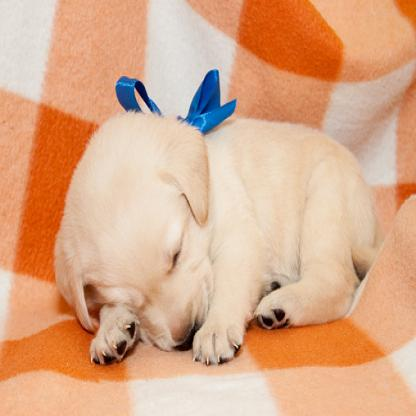Labarador Retriever: (54, 111, 377, 365)
